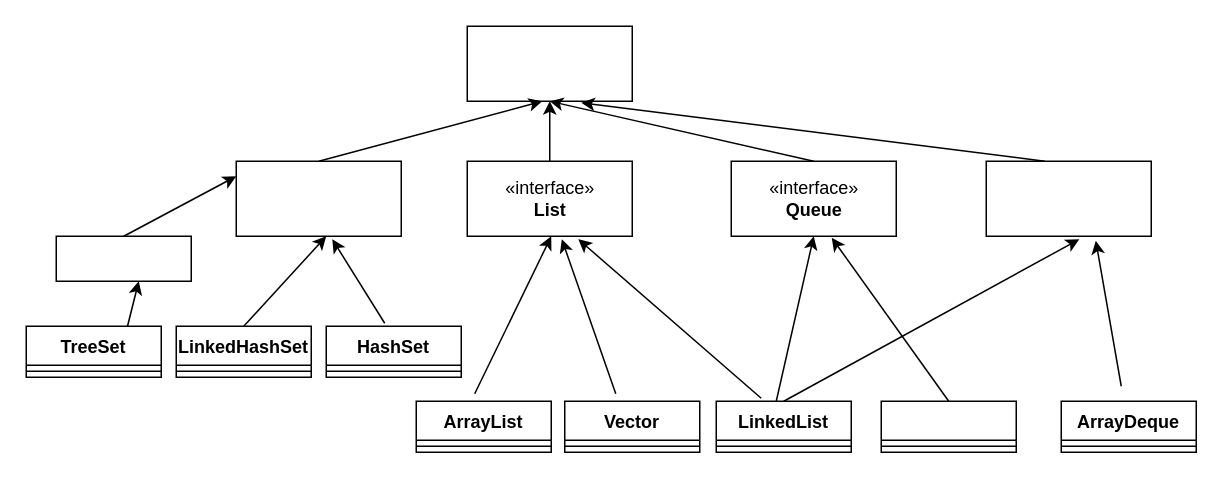
Some shapes in this 1223 by 479 pixel diagram are drawn without their labels. Here are the shapes that lost their labels. From the top down, the centre of each, then its label:
At (549,63): "«interface» Collection".
At (318,198): "«interface» Set".
At (1068,198): "«interface» Deque".
At (123,258): "«interface» SortedSet".
At (948,426): "PriorityQueue".
